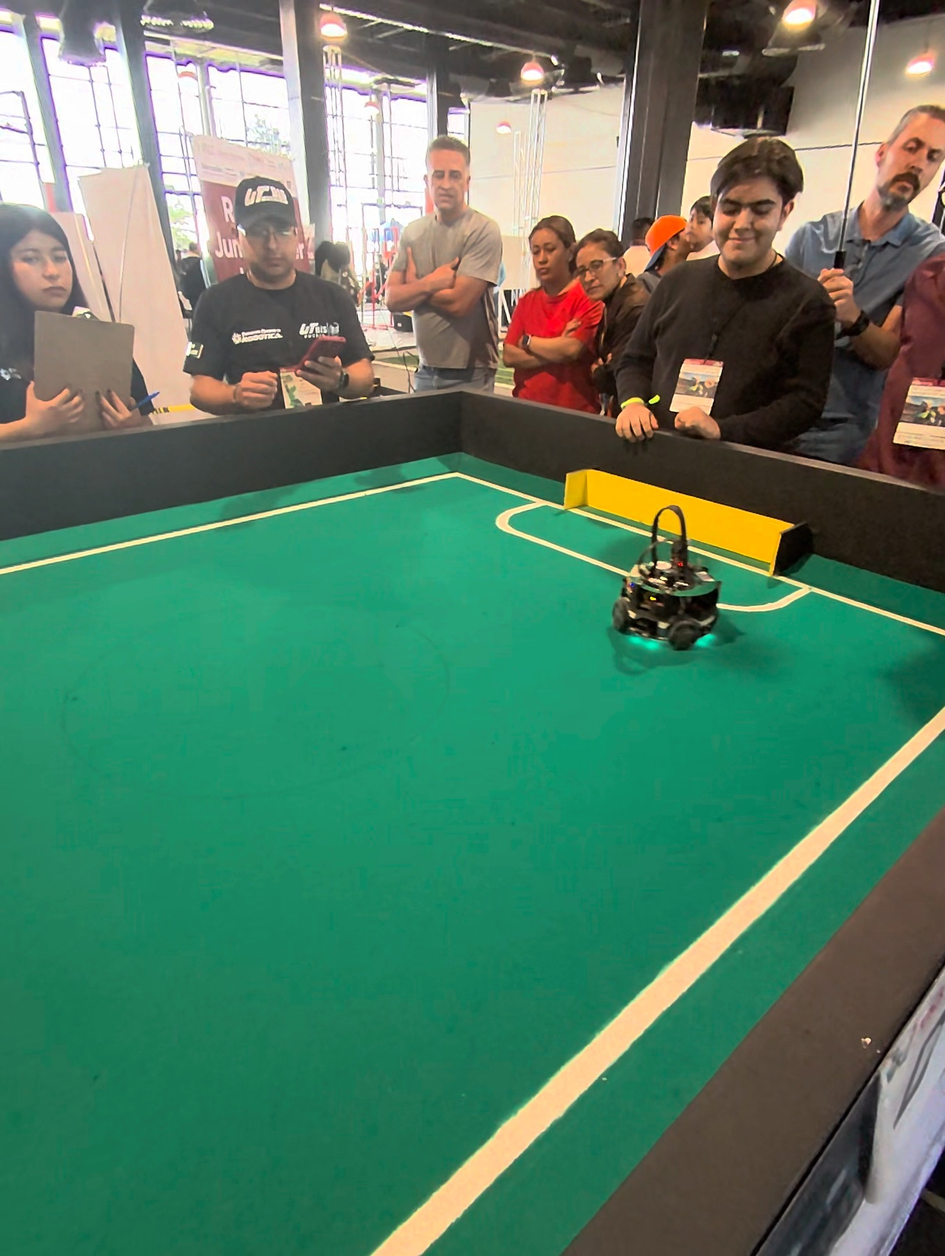Robot: (618, 495, 725, 660)
